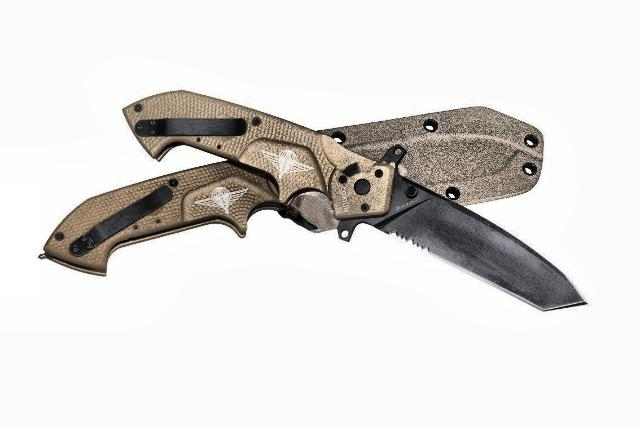knife: (333, 158, 611, 328)
